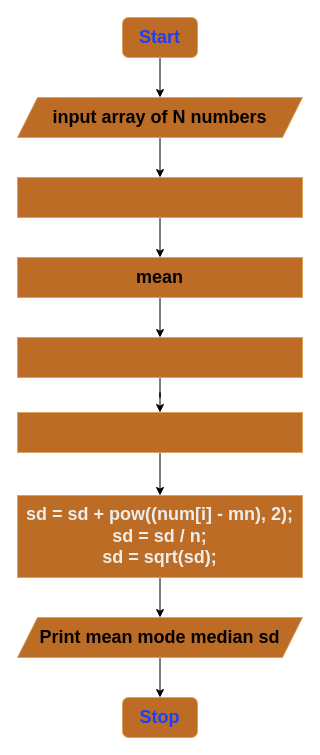
Image size: 320x755. Some labels were removed from this diagram. Each missing label, with the centre of its shape:
"median = n / 2" belongs at point (159, 432).
"mode = count the most occurence" belongs at point (159, 357).
"sort the array" belongs at point (159, 197).
